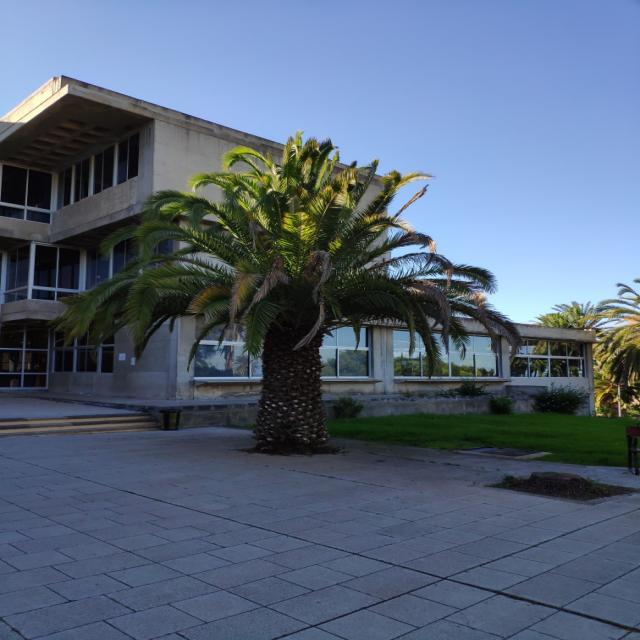Palm-Trees: (135, 174, 450, 451)
